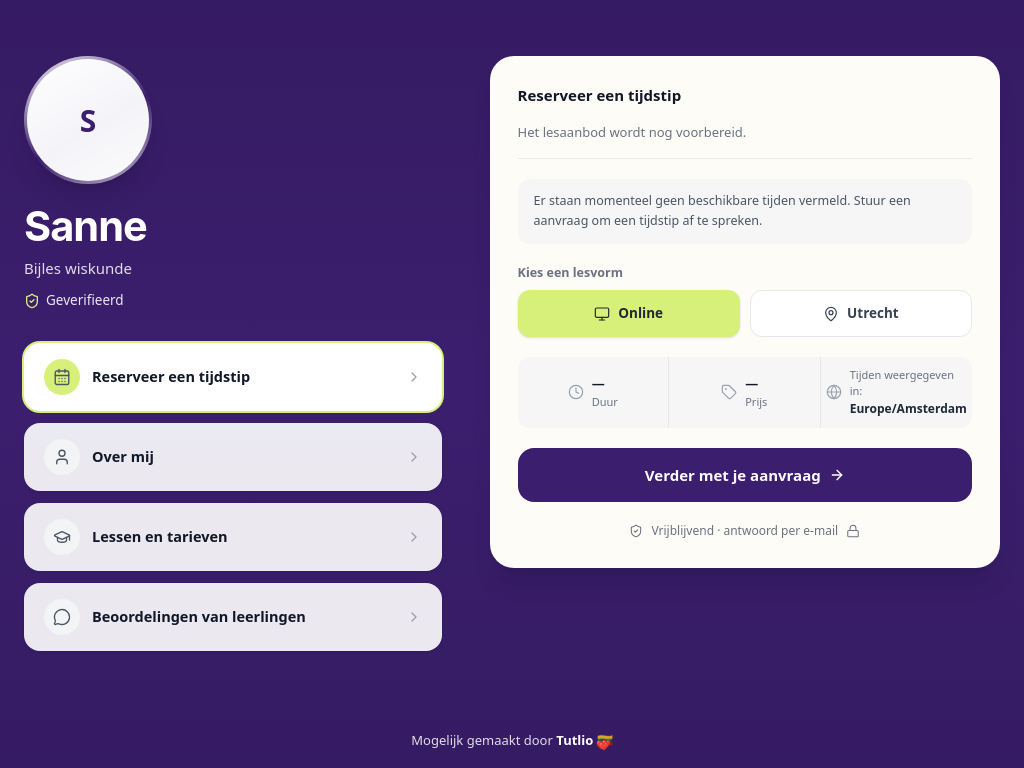
Test: Dutch public enquiry customer journey › validates contact details and confirms an enquiry without claiming a booking or payment
The image size is (1024, 768).
Click the button "Verder met je aanvraag": point(745, 475) [518, 448, 972, 502]
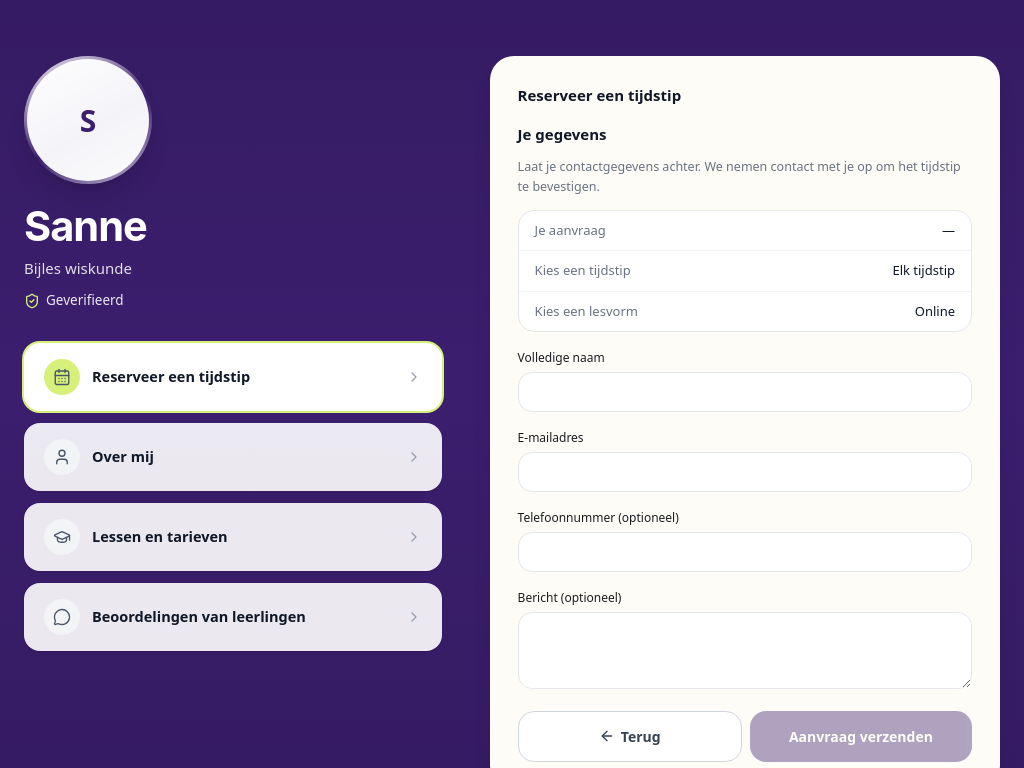
expect the text "Je gegevens" is shown: met, box [518, 124, 606, 144]
expect the button "Aanvraag verzenden" is disabled: met, box [750, 711, 972, 762]
In the field labelled "Volledige naam": point(745, 392) [518, 372, 972, 412], type "Noor Voorbeeld"
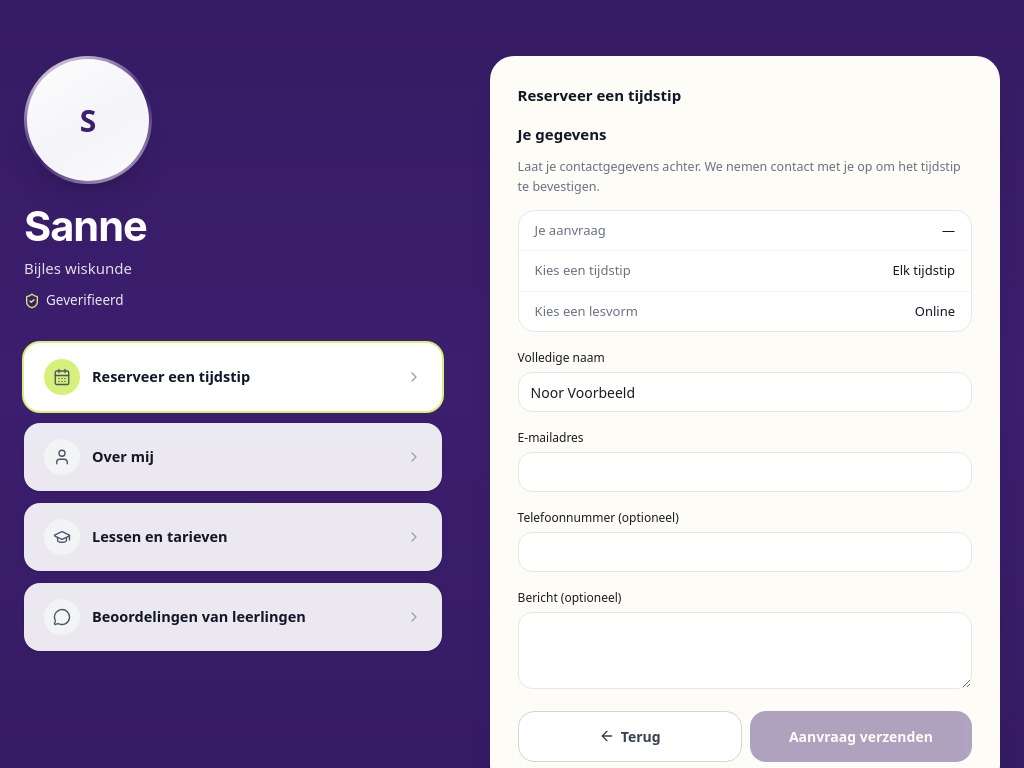
In the field labelled "E-mailadres": point(745, 472) [518, 452, 972, 492], type "noor@example.com"
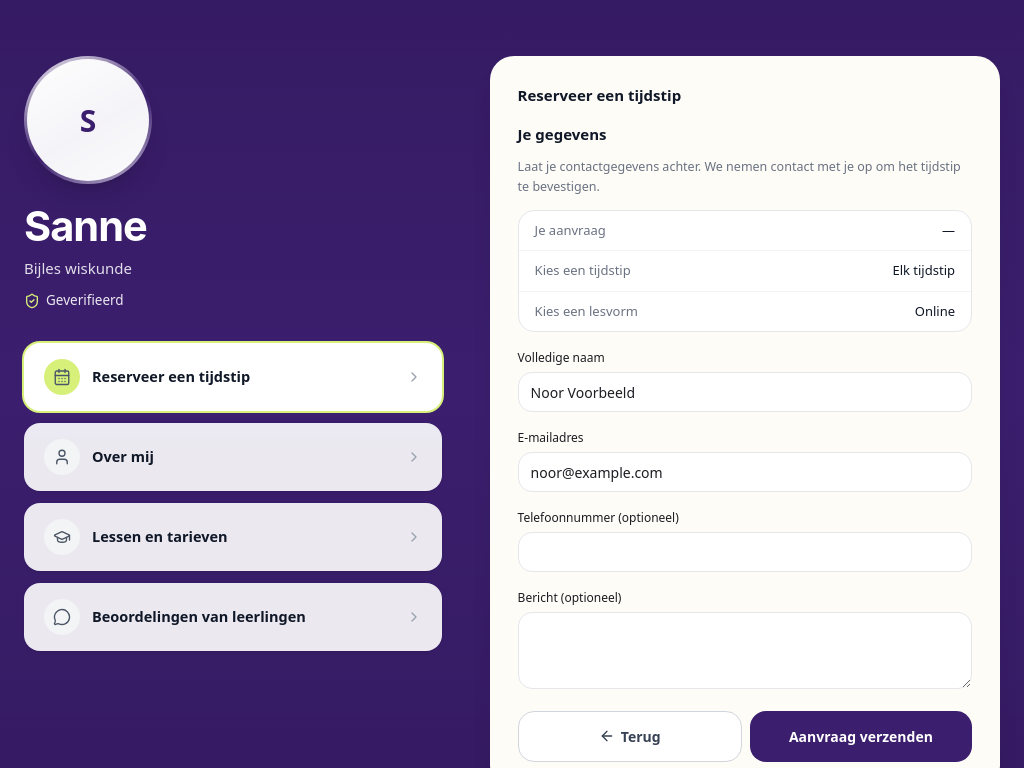
In the field labelled "Telefoonnummer (optioneel)": point(745, 552) [518, 532, 972, 572], type "+31 6 12345678"
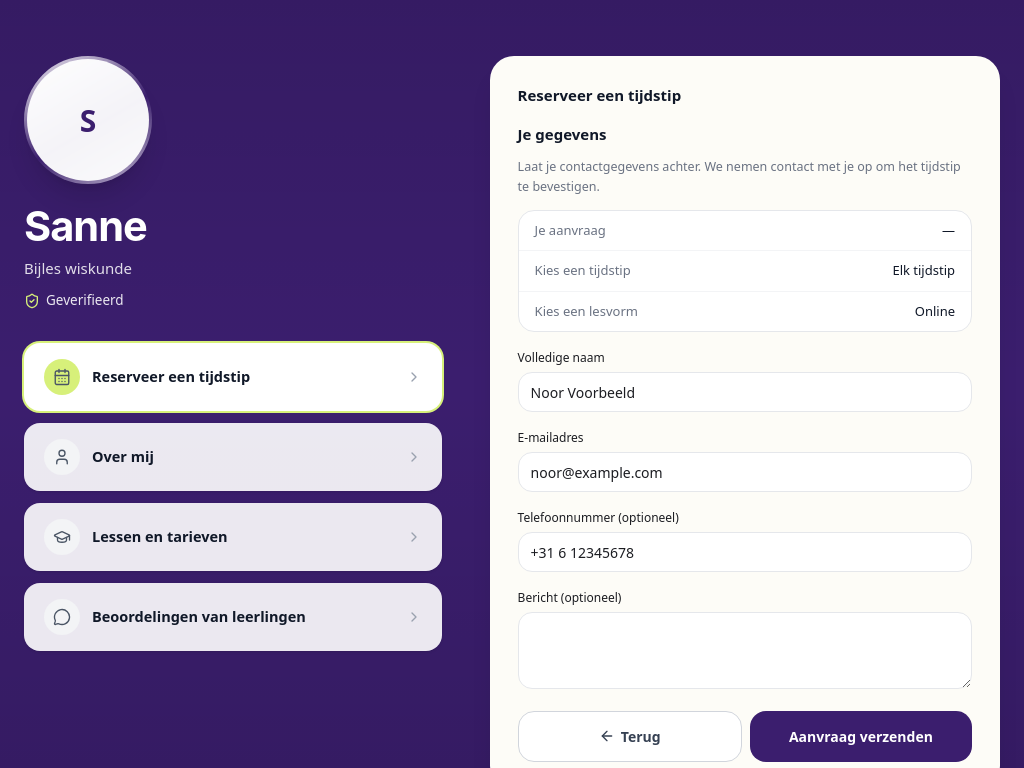
Click the button "Aanvraag verzenden": point(861, 736) [750, 711, 972, 762]
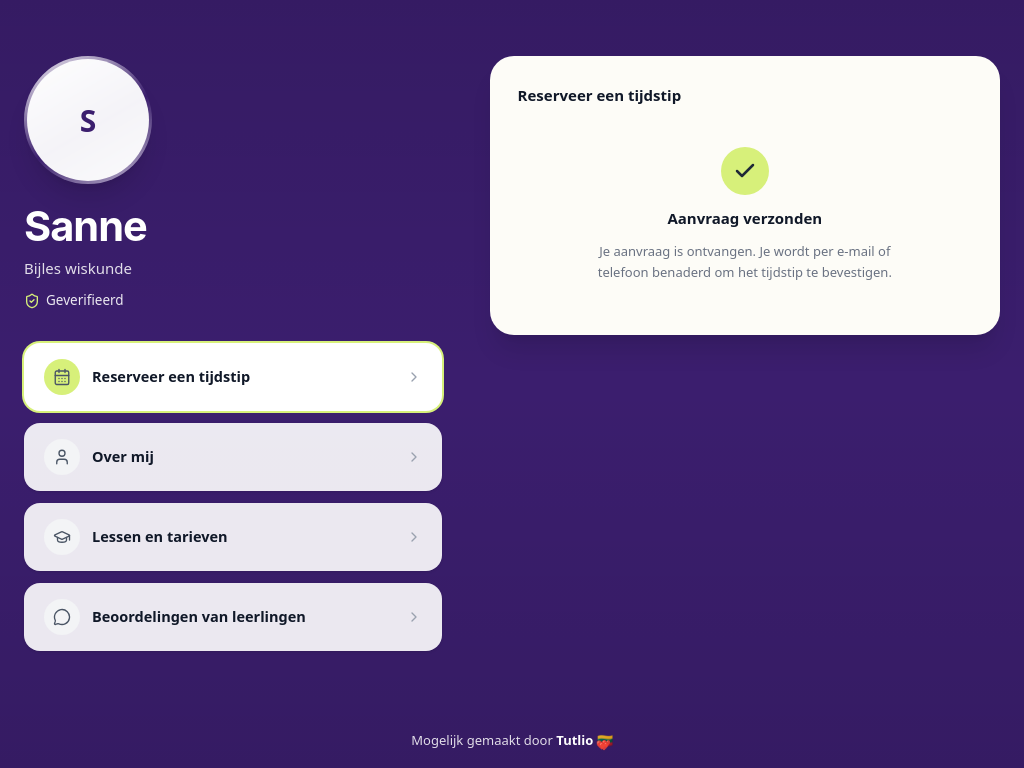
expect the text "Aanvraag verzonden" is shown: met, box [667, 208, 822, 228]
expect the text "om het tijdstip te bevestigen" is shown: met, box [598, 242, 892, 281]
